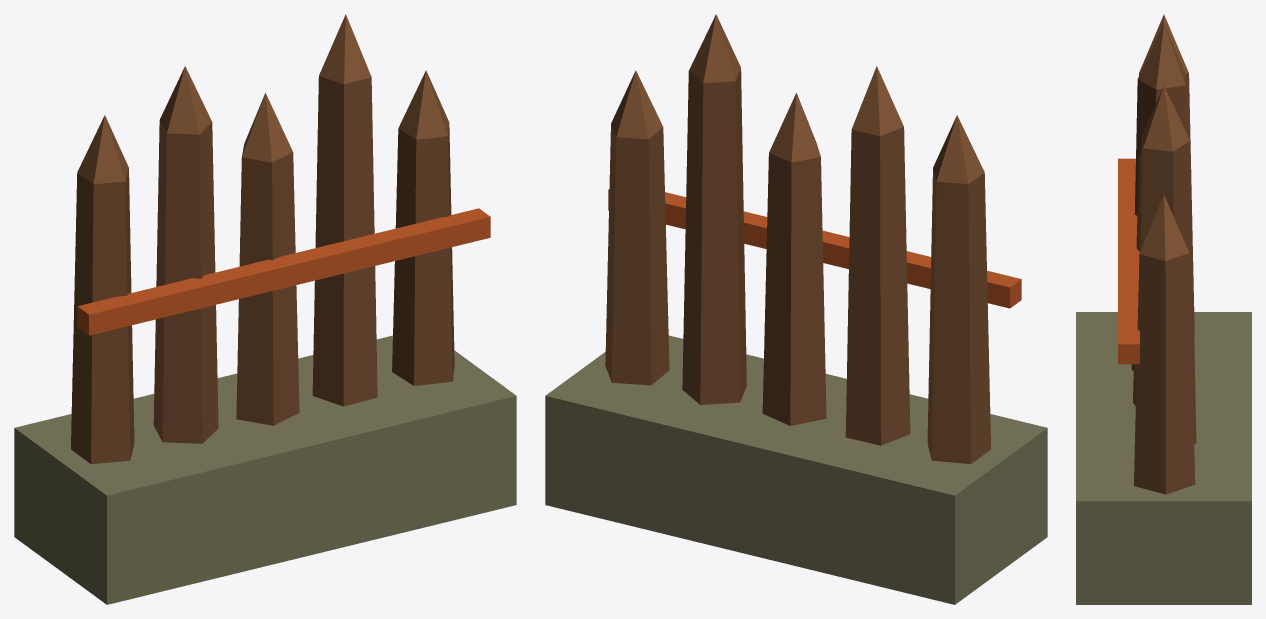
Rendered from wall_t1_seg.glb.
3 renders of one model, left to right at view 1: azimuth 30°, elevation 25°; view 2: azimuth 150°, elevation 25°; view 3: azimuth 270°, elevation 25°, orthographic. The views are drawn at different scales.
Parts seen in each view (by area): view 1: body; view 2: body; view 3: body.
Part boxes in pixels (x1,y1,x2,y2): body: [14, 14, 516, 604]; body: [545, 14, 1047, 604]; body: [1076, 14, 1251, 604].
Bounding box in the file's own units: 1.02 × 1.16 × 0.4.
